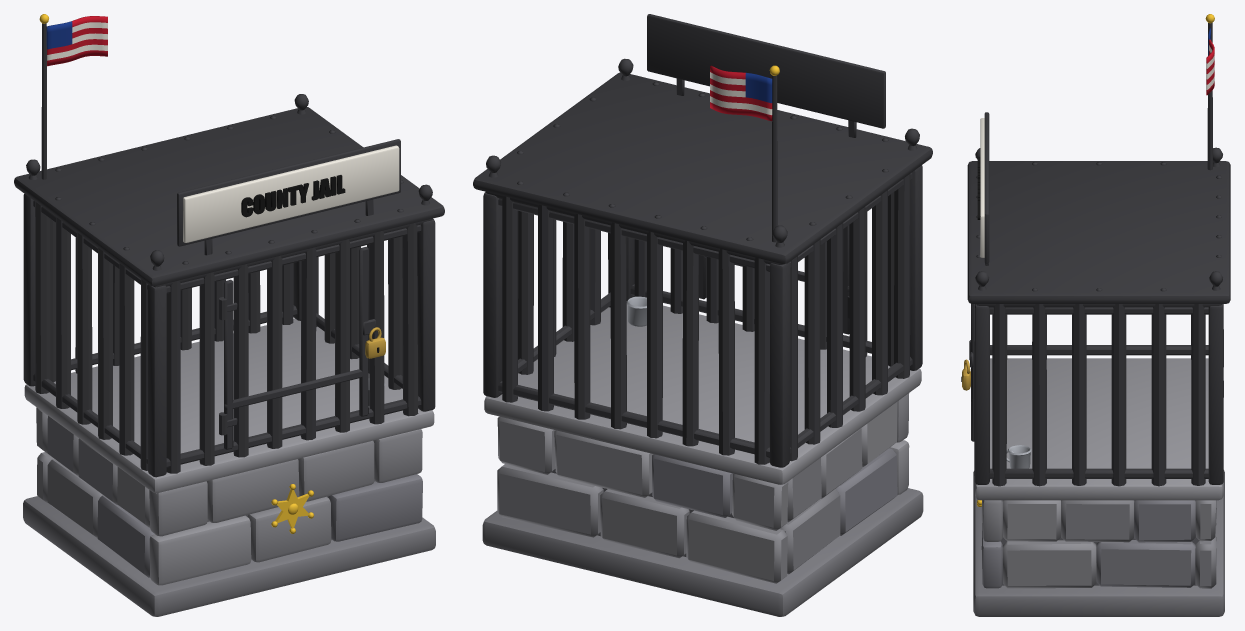
File: county_jail.glb
3 views of the same model, side by side, from view 1: azimuth 30°, elevation 25°; view 2: azimuth 150°, elevation 25°; view 3: azimuth 270°, elevation 25° (orthographic). The views are drawn at different scales.
Visible parts, largest first — view 1: CountyJail; view 2: CountyJail; view 3: CountyJail.
Boxes of the visible parts, x1,y1,x2,y2 form: CountyJail: [14, 14, 444, 616]; CountyJail: [473, 14, 932, 616]; CountyJail: [961, 14, 1230, 616].
Size of the model in its own units: 1.1 by 1.82 by 0.922.
